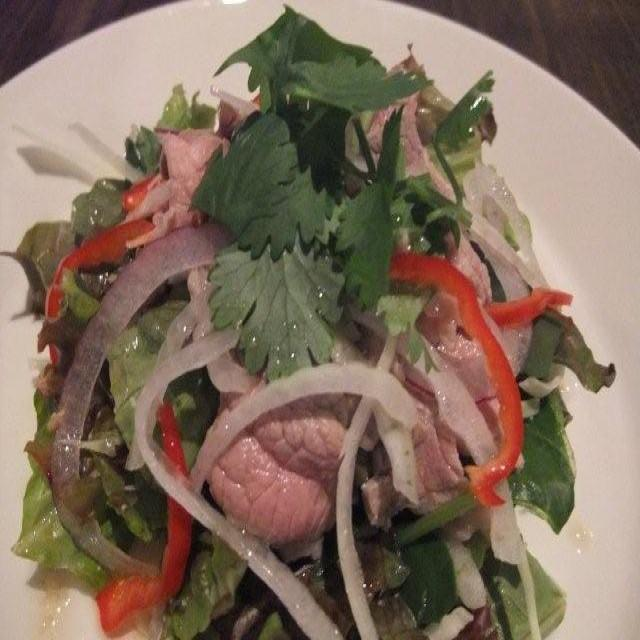Green Salad: (52, 64, 572, 637)
